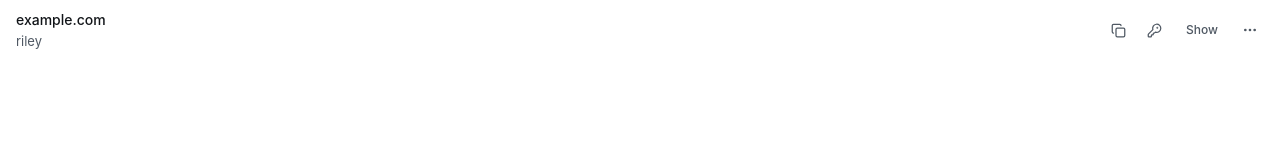
Test: a shown password and the vault lock › is gone the moment the vault locks, and stays gone once it opens again
What coordinates should you click on to do the following:
click the button with aria-label "Show the password for example.com"
I would click on:
 (1202, 30)
Its box is [1176, 16, 1228, 44].
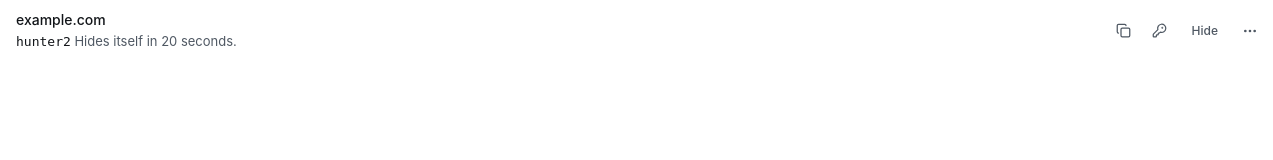
Result: the text "hunter2" is shown at [16, 34, 71, 49]
